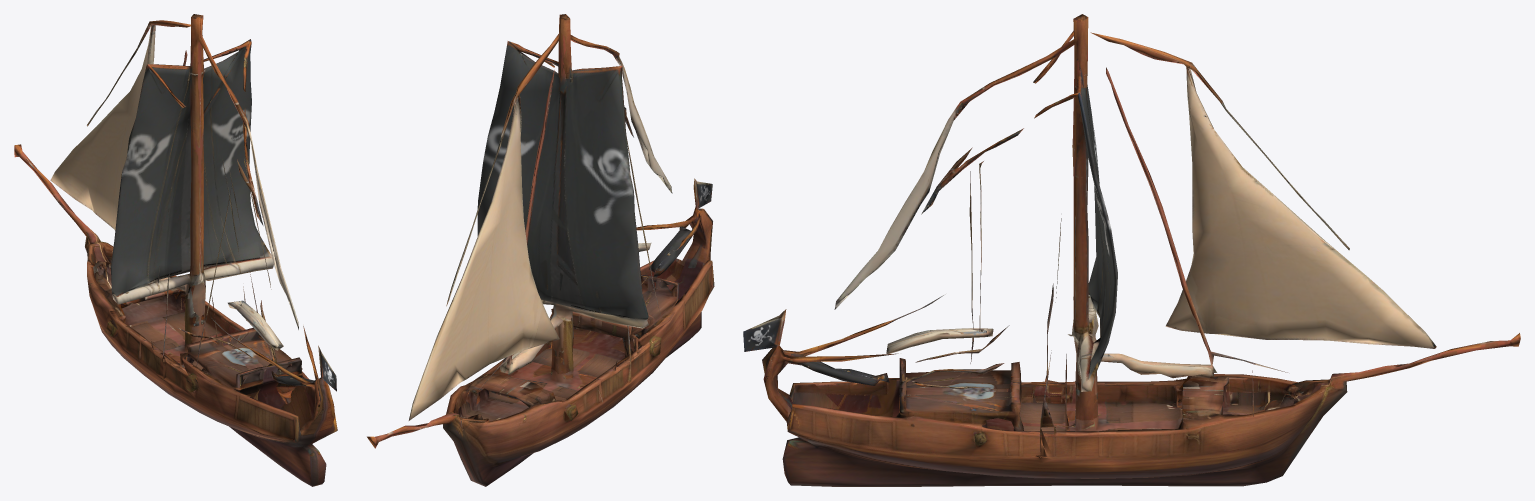
File: sloop-1.glb
3 renders of one model, left to right at view 1: azimuth 30°, elevation 25°; view 2: azimuth 150°, elevation 25°; view 3: azimuth 270°, elevation 25°, orthographic. The views are drawn at different scales.
Bounding box in the file's own units: 0.5736 × 1.31 × 1.97.
Materials: 1 (1 with a texture image).
